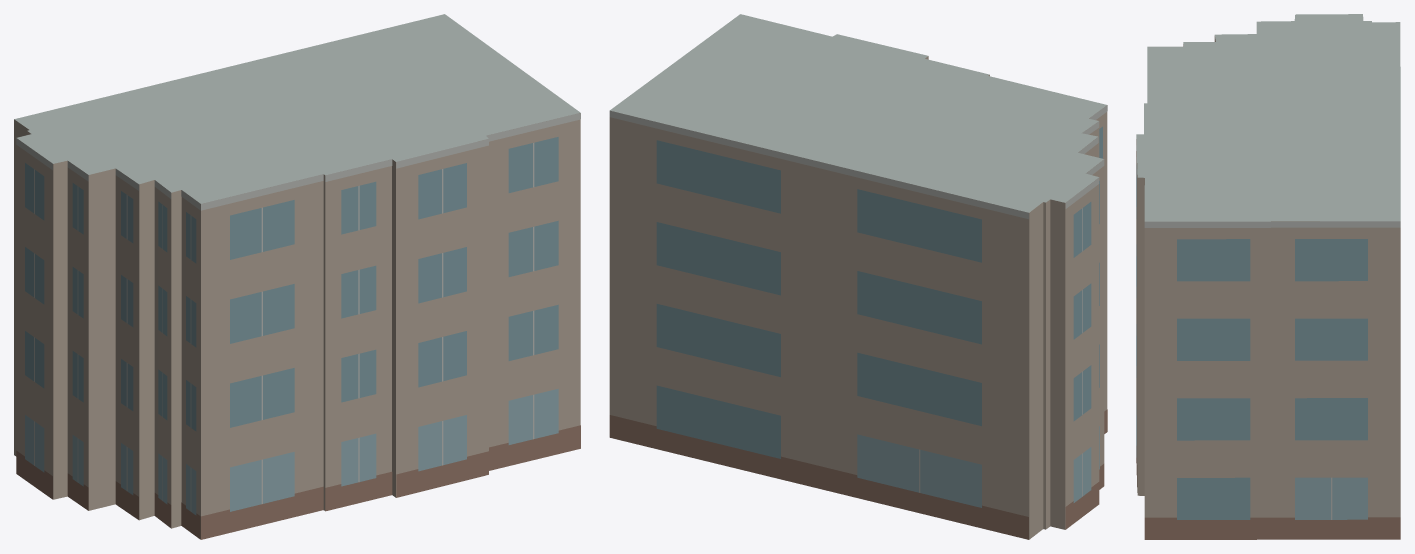
Rendered from survey-upis-32741240.glb.
The picture shows the model from 3 angles, left to right: view 1: azimuth 30°, elevation 25°; view 2: azimuth 150°, elevation 25°; view 3: azimuth 270°, elevation 25°; orthographic projection. The views are drawn at different scales.
Visible parts, largest first — view 1: survey-upis-32741240.tmp; view 2: survey-upis-32741240.tmp; view 3: survey-upis-32741240.tmp.
Boxes of the visible parts, left/top/right/bottom form: survey-upis-32741240.tmp: left=14, top=14, right=580, bottom=539; survey-upis-32741240.tmp: left=609, top=14, right=1107, bottom=539; survey-upis-32741240.tmp: left=1136, top=14, right=1400, bottom=539.
Bounding box in the file's own units: 17.08 × 12.2 × 9.19.
